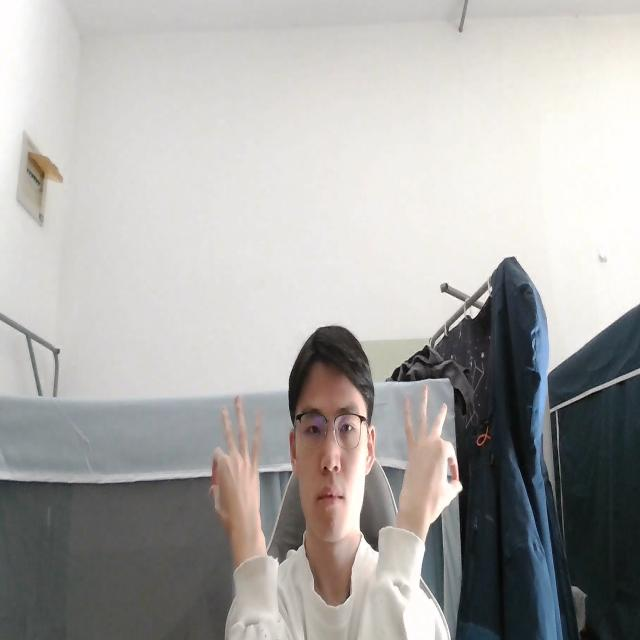ok: (396, 381, 462, 532), (207, 394, 266, 552)
